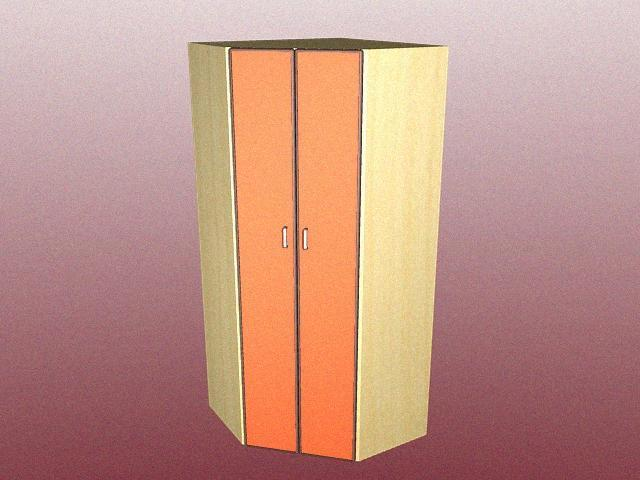cabinet_door: (296, 50, 358, 456), (238, 50, 296, 449)
handle: (282, 224, 293, 255), (301, 224, 311, 254)
